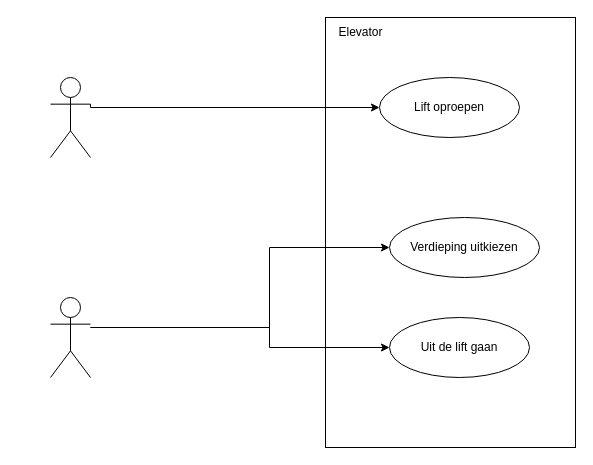
Some shapes in this 593 by 465 pixel diagram are drawn without their labels. Here are the shapes that lost their labels. From the top down, the centre of each, then its label:
At point (70, 117): "Potential Passenger".
At point (70, 337): "Passenger".
